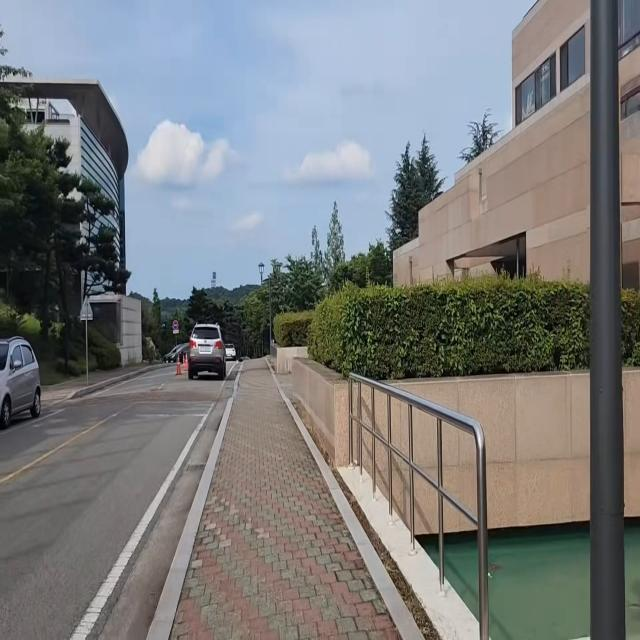obstacle: (0, 324, 53, 444), (184, 316, 232, 382)
road: (0, 366, 236, 640)
sidewalk: (143, 364, 427, 640)
